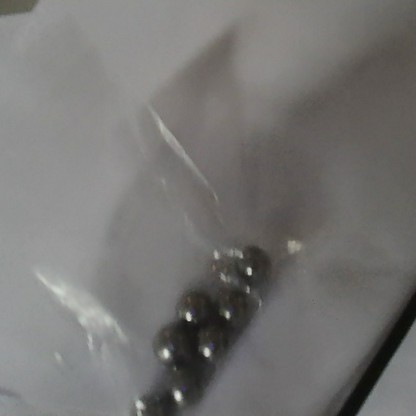ironball: (159, 364, 205, 412), (228, 244, 275, 286), (173, 285, 213, 327), (148, 324, 190, 364), (214, 285, 254, 324), (193, 327, 228, 359), (122, 391, 168, 414)
